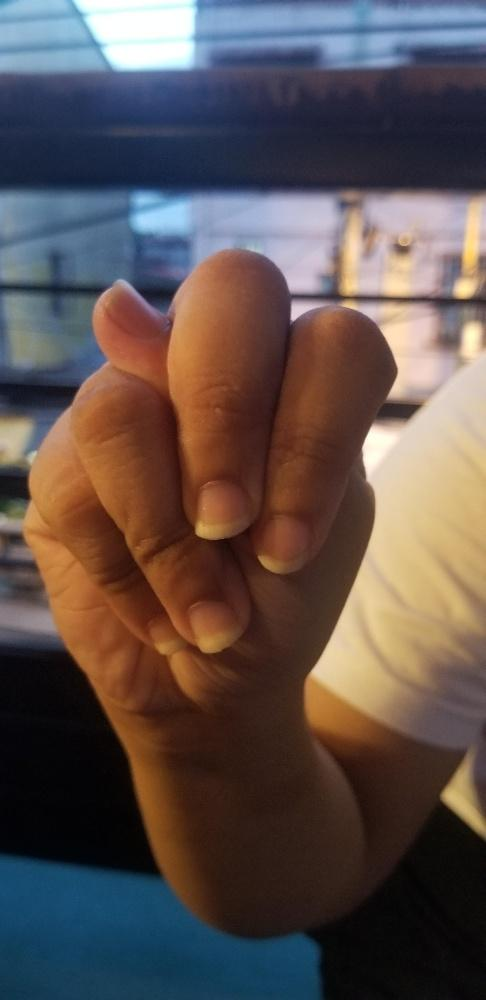n: (17, 244, 399, 714)
